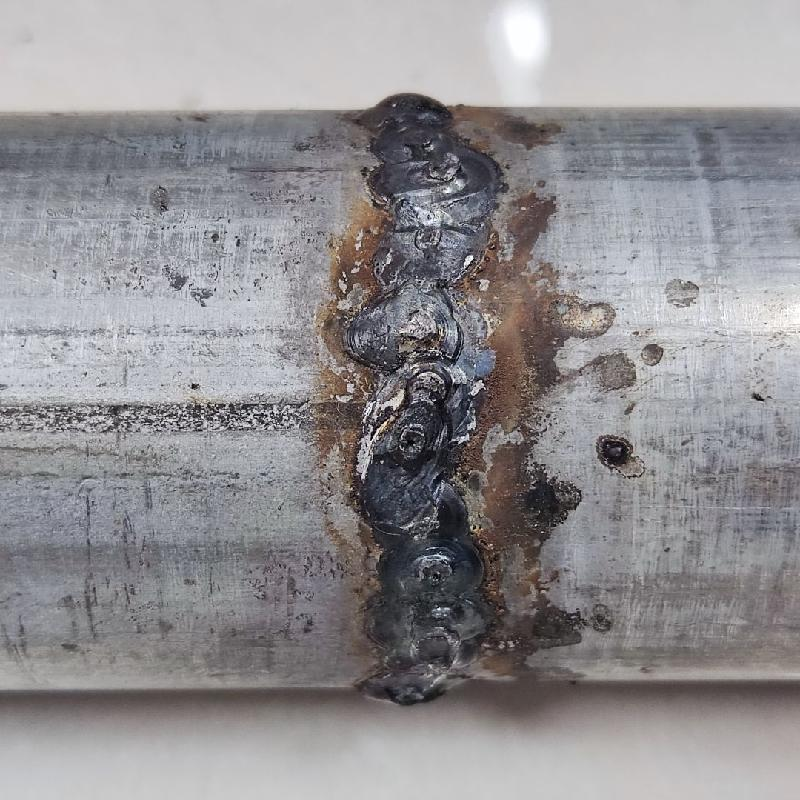Weld: (338, 90, 463, 130)
wrong_size: (353, 128, 501, 697)
